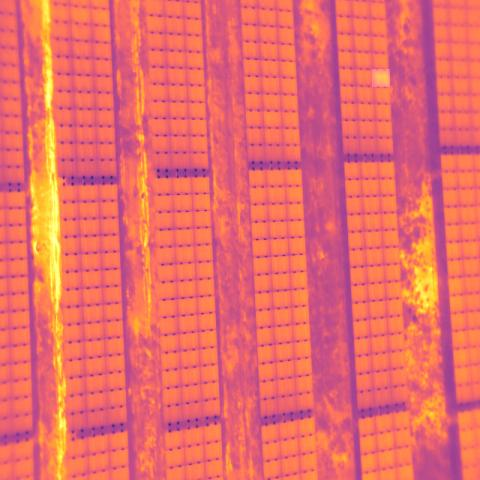fault: (372, 69, 390, 87)
